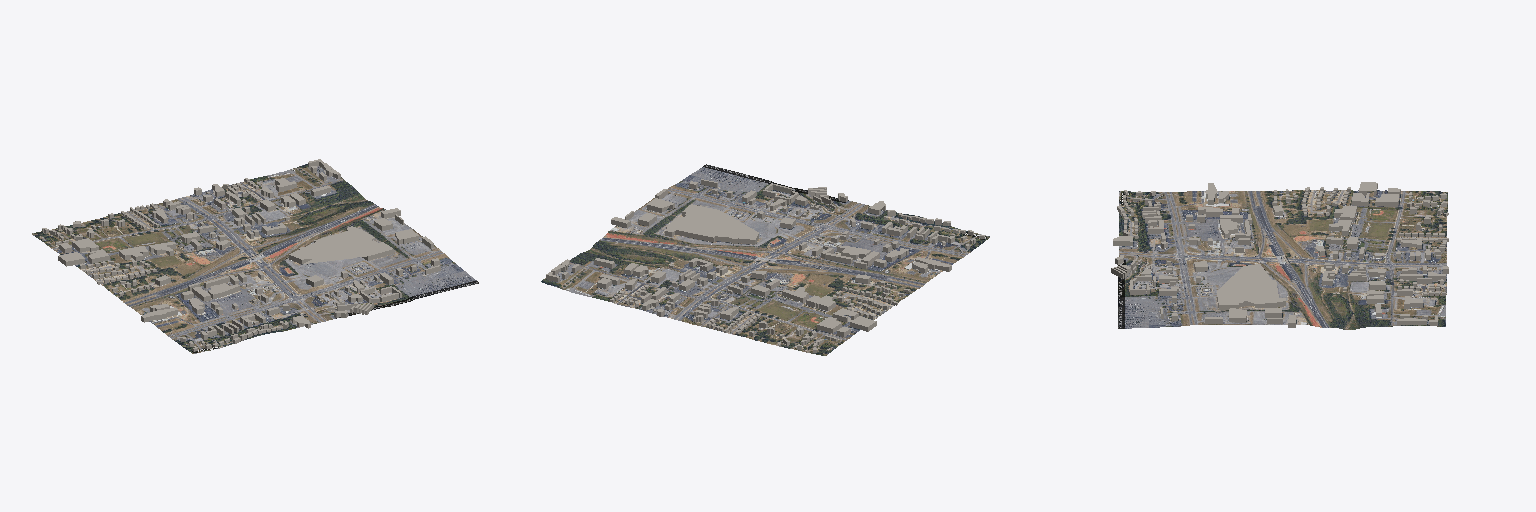
3 renders of one model, left to right at view 1: azimuth 30°, elevation 25°; view 2: azimuth 150°, elevation 25°; view 3: azimuth 270°, elevation 25°, orthographic.
Parts seen in each view (by area): view 1: Mesh29 Group4 Oob_OSM_building Oob_OSM_elements Model, Mesh21 Oob_Terrain20 Model, Mesh9 Oob_Terrain8 Model, Mesh18 Oob_Terrain17 Model, Mesh8 Oob_Terrain7 Model, Mesh4 Oob_Terrain3 Model, Mesh17 Oob_Terrain16 Model, Mesh14 Oob_Terrain13 Model, Mesh20 Oob_Terrain19 Model, Mesh1 Oob_Terrain Model, Mesh25 Oob_Terrain24 Model, Mesh10 Oob_Terrain9 Model (+14 smaller); view 2: Mesh29 Group4 Oob_OSM_building Oob_OSM_elements Model, Mesh4 Oob_Terrain3 Model, Mesh21 Oob_Terrain20 Model, Mesh9 Oob_Terrain8 Model, Mesh25 Oob_Terrain24 Model, Mesh8 Oob_Terrain7 Model, Mesh18 Oob_Terrain17 Model, Mesh6 Oob_Terrain5 Model, Mesh20 Oob_Terrain19 Model, Mesh2 Oob_Terrain1 Model, Mesh22 Oob_Terrain21 Model, Mesh24 Oob_Terrain23 Model (+14 smaller); view 3: Mesh29 Group4 Oob_OSM_building Oob_OSM_elements Model, Mesh4 Oob_Terrain3 Model, Mesh18 Oob_Terrain17 Model, Mesh21 Oob_Terrain20 Model, Mesh9 Oob_Terrain8 Model, Mesh8 Oob_Terrain7 Model, Mesh14 Oob_Terrain13 Model, Mesh25 Oob_Terrain24 Model, Mesh22 Oob_Terrain21 Model, Mesh10 Oob_Terrain9 Model, Mesh24 Oob_Terrain23 Model, Mesh20 Oob_Terrain19 Model (+14 smaller).
Part boxes in pixels (x1,y1,x2,y2): Mesh29 Group4 Oob_OSM_building Oob_OSM_elements Model: (289,226,393,263); Mesh21 Oob_Terrain20 Model: (212,239,296,275); Mesh9 Oob_Terrain8 Model: (300,184,381,223); Mesh18 Oob_Terrain17 Model: (391,257,478,296); Mesh8 Oob_Terrain7 Model: (247,263,331,302); Mesh4 Oob_Terrain3 Model: (153,253,237,290); Mesh17 Oob_Terrain16 Model: (304,257,389,287); Mesh14 Oob_Terrain13 Model: (96,267,184,305); Mesh20 Oob_Terrain19 Model: (89,207,176,243); Mesh1 Oob_Terrain Model: (374,231,447,271); Mesh25 Oob_Terrain24 Model: (277,288,358,324); Mesh10 Oob_Terrain9 Model: (150,192,233,229); Mesh29 Group4 Oob_OSM_building Oob_OSM_elements Model: (665,204,758,244); Mesh4 Oob_Terrain3 Model: (778,255,867,292); Mesh21 Oob_Terrain20 Model: (721,241,809,278); Mesh9 Oob_Terrain8 Model: (574,234,662,271); Mesh25 Oob_Terrain24 Model: (787,196,869,232); Mesh8 Oob_Terrain7 Model: (758,220,842,254); Mesh18 Oob_Terrain17 Model: (673,164,761,200); Mesh6 Oob_Terrain5 Model: (541,258,628,298); Mesh20 Oob_Terrain19 Model: (712,304,800,343); Mesh2 Oob_Terrain1 Model: (607,208,680,248); Mesh22 Oob_Terrain21 Model: (745,279,833,317); Mesh24 Oob_Terrain23 Model: (901,221,989,260); Mesh29 Group4 Oob_OSM_building Oob_OSM_elements Model: (1217,264,1285,309); Mesh4 Oob_Terrain3 Model: (1250,217,1315,245); Mesh18 Oob_Terrain17 Model: (1118,300,1183,328); Mesh21 Oob_Terrain20 Model: (1250,245,1315,273); Mesh9 Oob_Terrain8 Model: (1315,300,1380,329); Mesh8 Oob_Terrain7 Model: (1184,246,1249,273); Mesh14 Oob_Terrain13 Model: (1250,190,1315,217); Mesh25 Oob_Terrain24 Model: (1118,246,1183,274); Mesh22 Oob_Terrain21 Model: (1316,218,1381,246); Mesh10 Oob_Terrain9 Model: (1381,247,1446,274); Mesh24 Oob_Terrain23 Model: (1119,191,1184,219); Mesh20 Oob_Terrain19 Model: (1381,219,1446,247).
Bounding box in the file's own units: 1332 × 51.53 × 1307.
Materials: 2 (1 with a texture image).